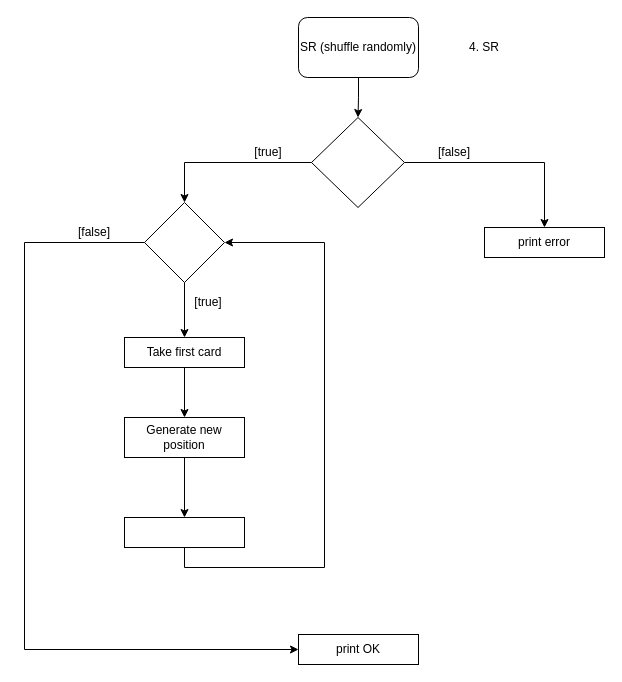
This 622x682 diagram has some shape labels left out. Each missing label, with the box of its shape:
Add to pile: (124, 516, 244, 548)
Has deck of cards: (310, 116, 404, 208)
pile has card?: (144, 202, 224, 282)
